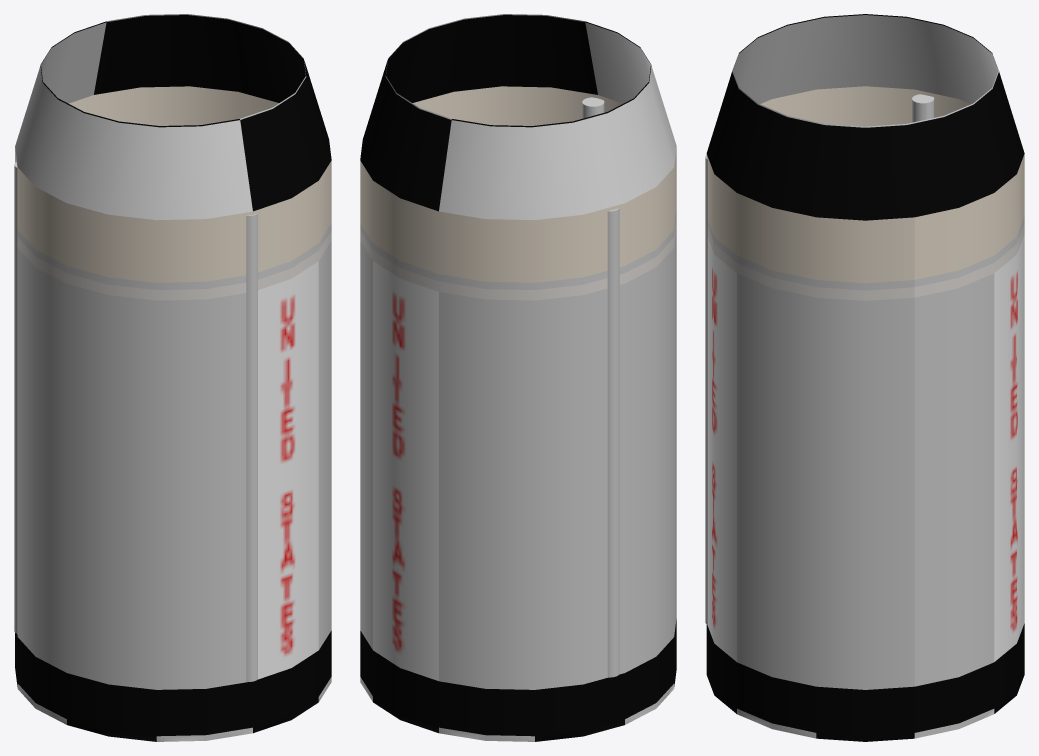
Rendered from etapa_2.glb.
3 renders of one model, left to right at view 1: azimuth 30°, elevation 25°; view 2: azimuth 150°, elevation 25°; view 3: azimuth 270°, elevation 25°, orthographic.
Visible parts, largest first — view 1: etapa_2; view 2: etapa_2; view 3: etapa_2.
Part boxes in pixels (x1,y1,x2,y2): etapa_2: (14,14,331,741); etapa_2: (360,14,676,741); etapa_2: (705,14,1024,741).
Bounding box in the file's own units: 2.86 × 6.01 × 2.88.
5 materials, 1 textured.
